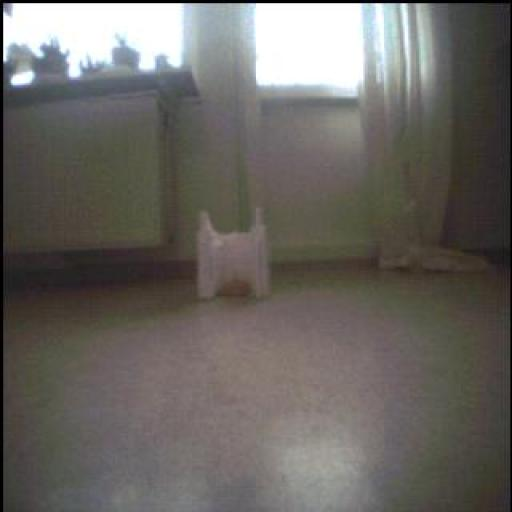Basket: (222, 270, 251, 302)
